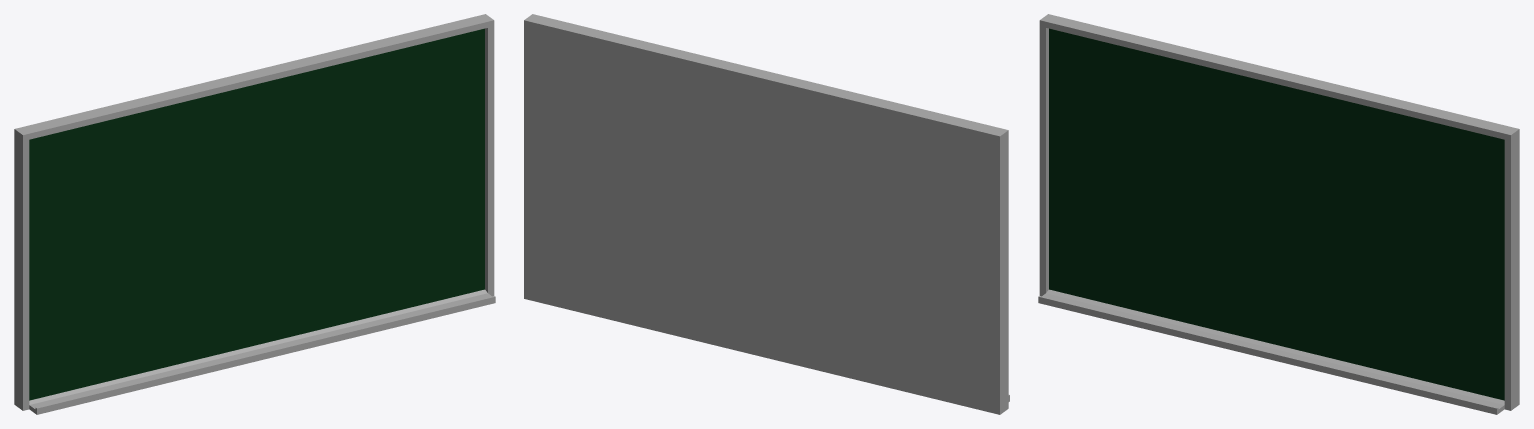
File: Blackboard.fbx
3 views of the same model, side by side, from view 1: azimuth 30°, elevation 25°; view 2: azimuth 150°, elevation 25°; view 3: azimuth 330°, elevation 25° (orthographic).
Visible parts, largest first — view 1: Blackboard; view 2: Blackboard; view 3: Blackboard.
Boxes of the visible parts, x1,y1,x2,y2 form: Blackboard: (14,14,495,414); Blackboard: (524,14,1009,414); Blackboard: (1038,14,1519,414).
Size of the model in its own units: 276 by 154 by 16.37.
